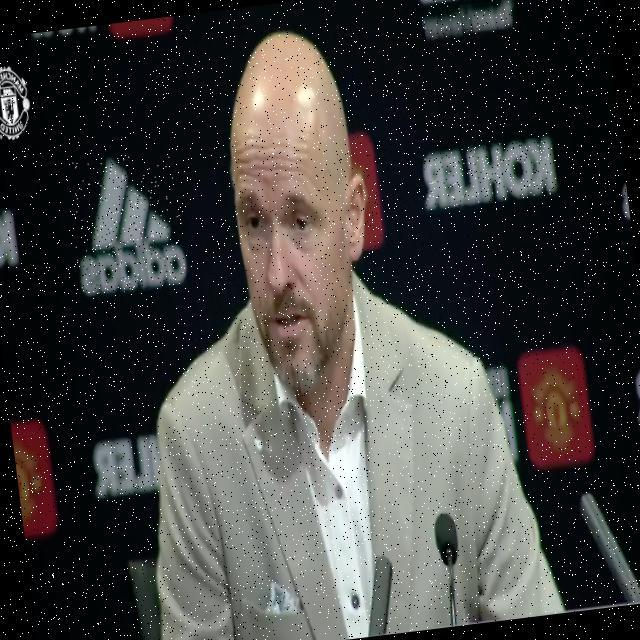Adidas: (65, 149, 189, 297)
Kohler: (420, 137, 559, 211)
TeamViewer: (418, 0, 515, 39)
